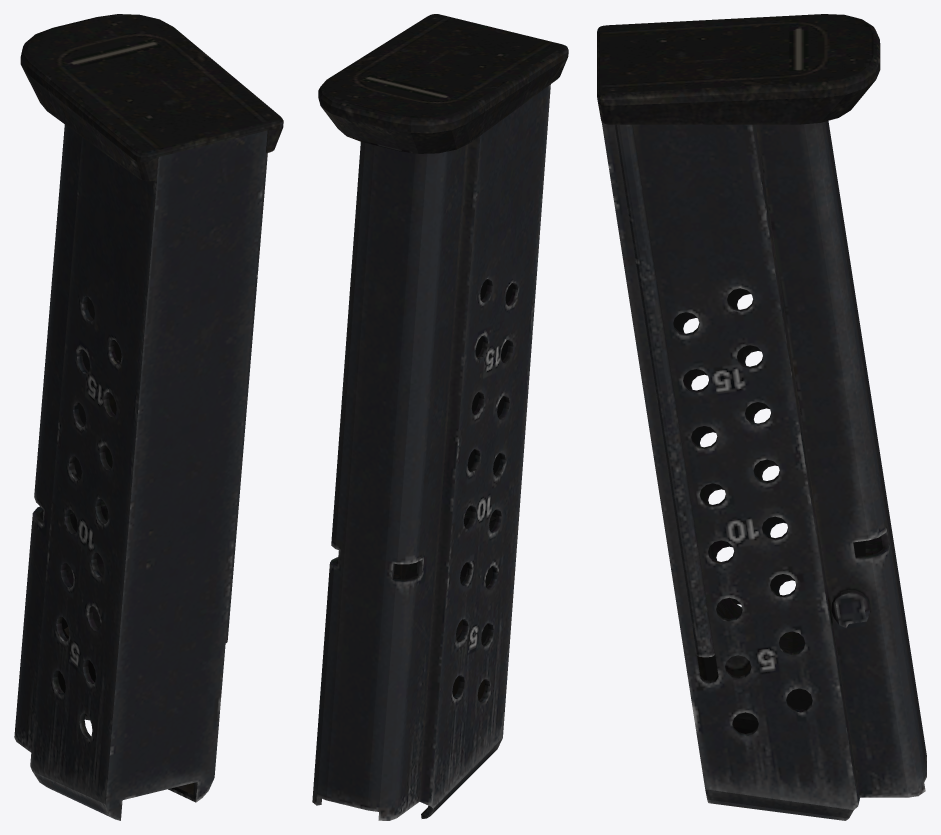
3 renders of one model, left to right at view 1: azimuth 30°, elevation 25°; view 2: azimuth 150°, elevation 25°; view 3: azimuth 270°, elevation 25°, orthographic. The views are drawn at different scales.
Visible parts, largest first — view 1: TW_59f99a7d86f7745b134aa97b_PZ_Import; view 2: TW_59f99a7d86f7745b134aa97b_PZ_Import; view 3: TW_59f99a7d86f7745b134aa97b_PZ_Import.
Part boxes in pixels (left/top/right/bottom): TW_59f99a7d86f7745b134aa97b_PZ_Import: left=14, top=14, right=283, bottom=820; TW_59f99a7d86f7745b134aa97b_PZ_Import: left=312, top=14, right=568, bottom=820; TW_59f99a7d86f7745b134aa97b_PZ_Import: left=597, top=14, right=926, bottom=820.
Bounding box in the file's own units: 0.0157 × 0.03 × 0.0758.
Materials: 1 (1 with a texture image).
